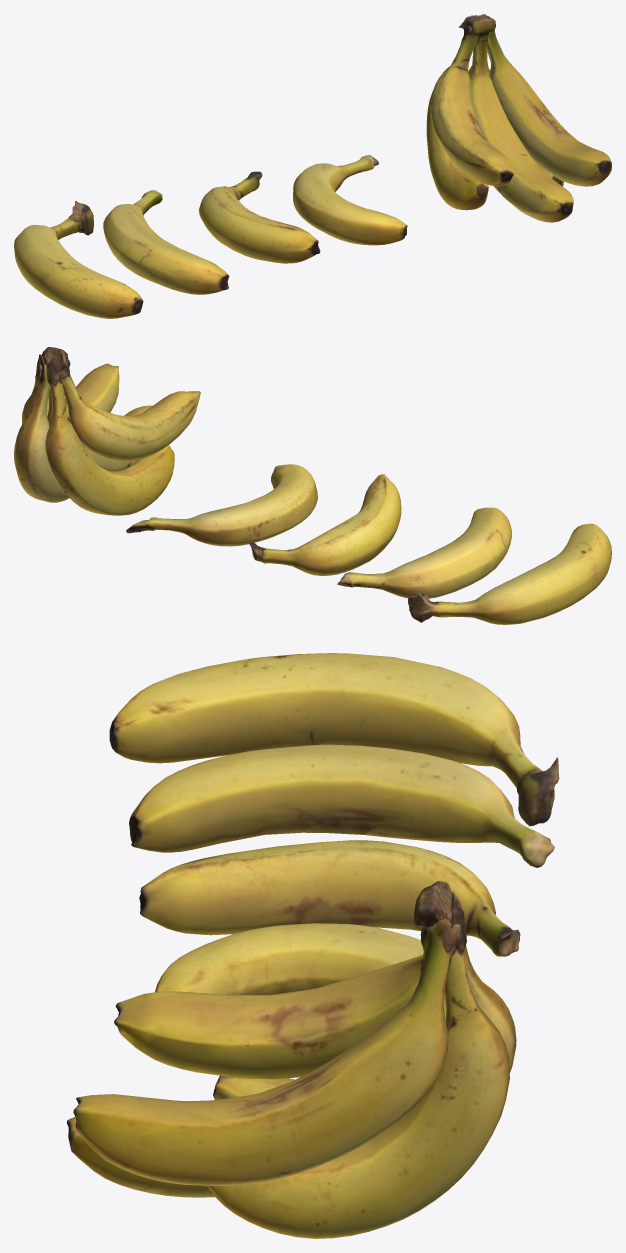
Rendered from bananas.glb.
The picture shows the model from 3 angles, top to bottom: view 1: azimuth 30°, elevation 25°; view 2: azimuth 150°, elevation 25°; view 3: azimuth 270°, elevation 25°; orthographic projection. The views are drawn at different scales.
Visible parts, largest first — view 1: bananas_bunch, bananas_d, bananas_c, bananas_a, bananas_b; view 2: bananas_bunch, bananas_d, bananas_c, bananas_a, bananas_b; view 3: bananas_bunch, bananas_d, bananas_c, bananas_b, bananas_a.
Part boxes in pixels (box(x1,y1,x2,y2)): bananas_bunch: box(426, 14, 611, 222); bananas_d: box(14, 201, 143, 318); bananas_c: box(103, 190, 229, 294); bananas_a: box(293, 155, 407, 245); bananas_b: box(199, 171, 320, 263); bananas_bunch: box(14, 347, 200, 515); bananas_d: box(408, 523, 611, 624); bananas_c: box(337, 507, 512, 598); bananas_a: box(126, 464, 317, 546); bananas_b: box(249, 474, 401, 575); bananas_bunch: box(67, 881, 516, 1238); bananas_d: box(109, 653, 559, 826); bananas_c: box(129, 744, 554, 867); bananas_b: box(139, 840, 520, 956); bananas_a: box(155, 923, 423, 994).
Size of the model in its own units: 0.6 by 0.1787 by 0.2441.
Materials: 1 (1 with a texture image).
